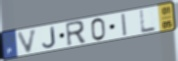0: (90, 17, 107, 42)
I: (120, 12, 129, 38)
J: (42, 25, 58, 49)
L: (139, 9, 158, 34)
R: (64, 19, 87, 48)
V: (16, 28, 39, 55)
